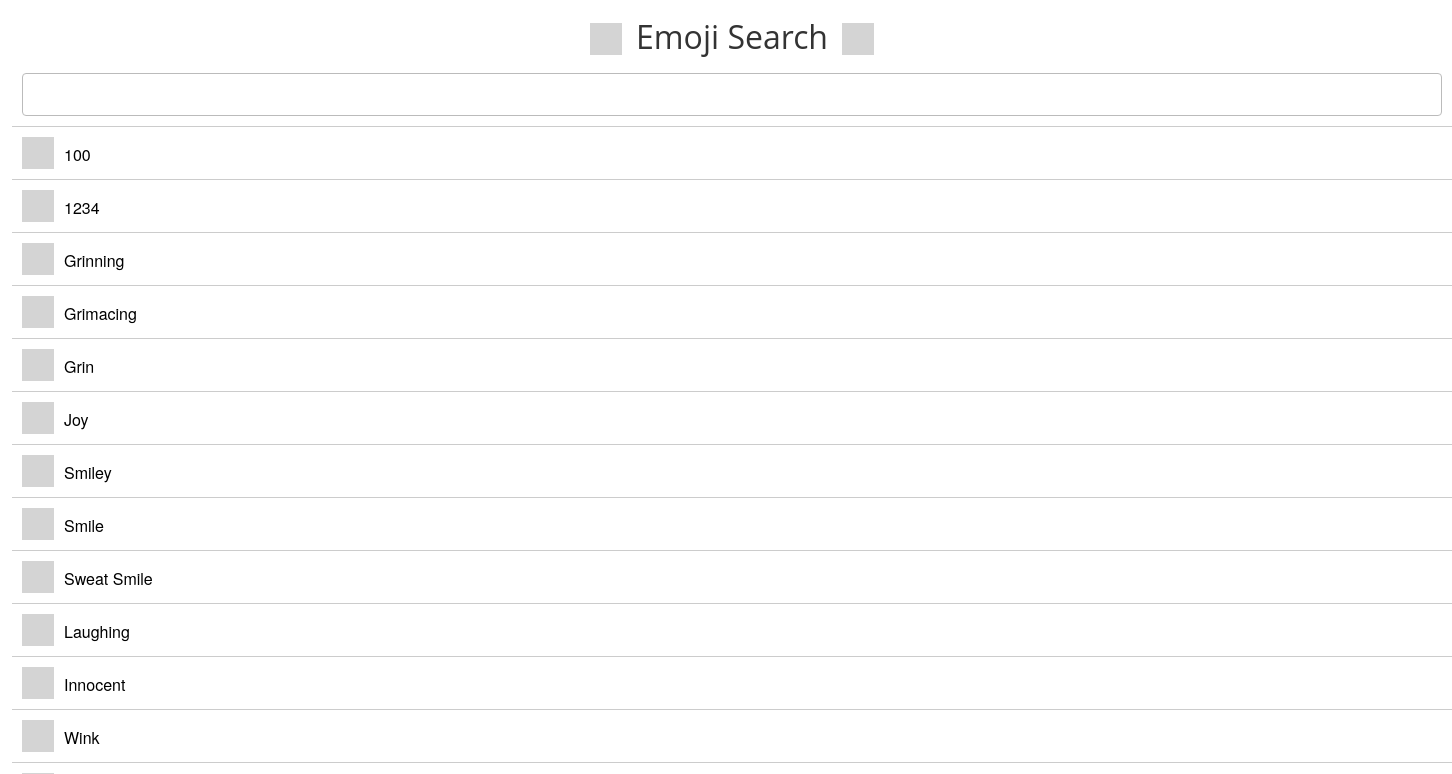
it: my first e2e test › shows a  "emojis not found" message
Type "emoji that does not exist" into the field with test id "emoji-search-input". click: (732, 95)
box: [22,73,1442,116]
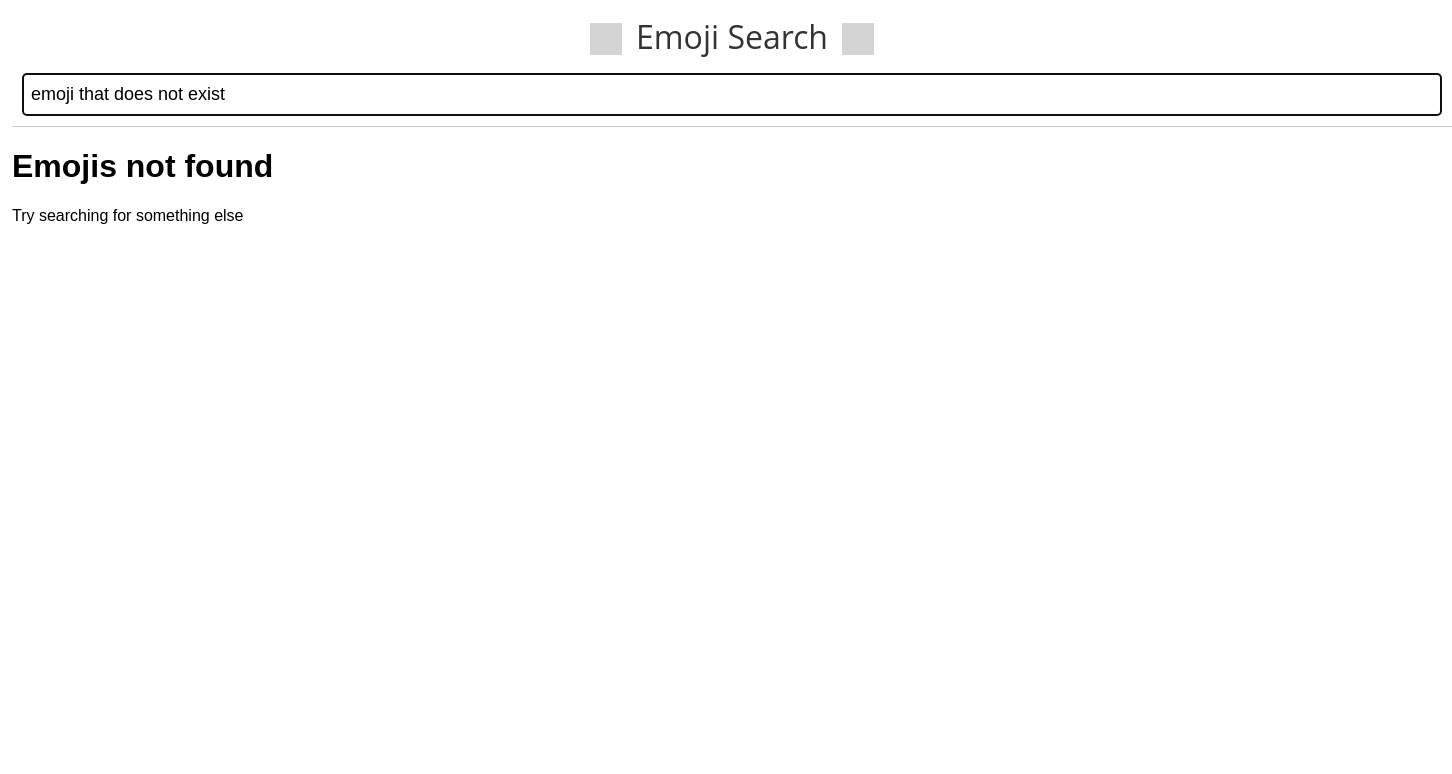
expect no elements with test id "emoji-row" are shown: met
expect the heading "Emojis not found" is shown: met, box [12,148,273,184]
expect the text "Try searching for something else" is shown: met, box [12,207,244,224]
